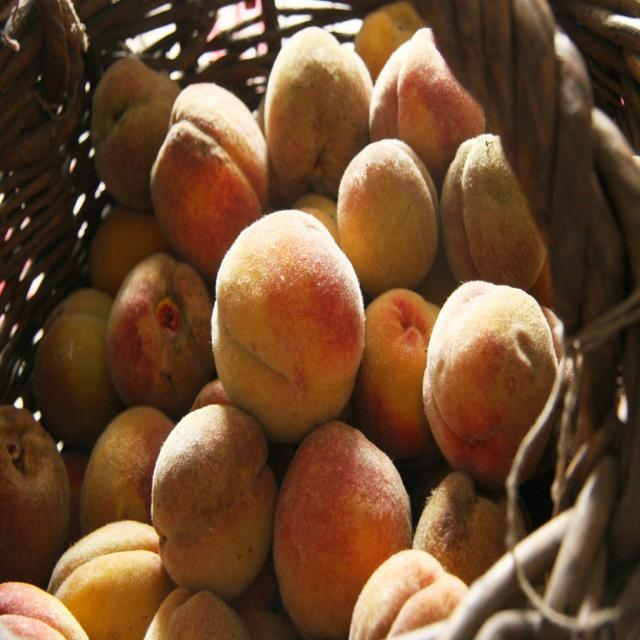Peach: (0, 0, 567, 639)
